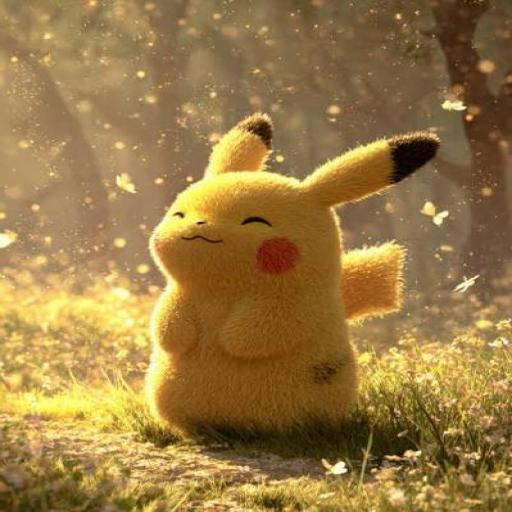Pikachu: (147, 113, 442, 441)
